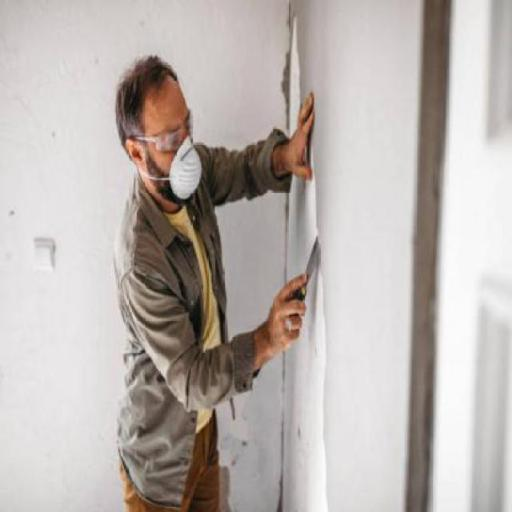glass: (146, 112, 196, 151)
person: (88, 42, 318, 510)
